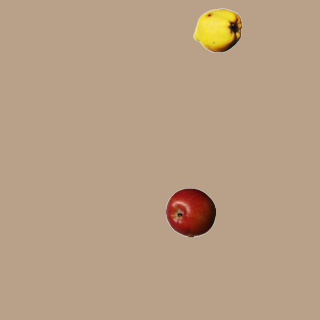Apple Braeburn: (165, 187, 215, 237)
Quince: (192, 5, 242, 55)
